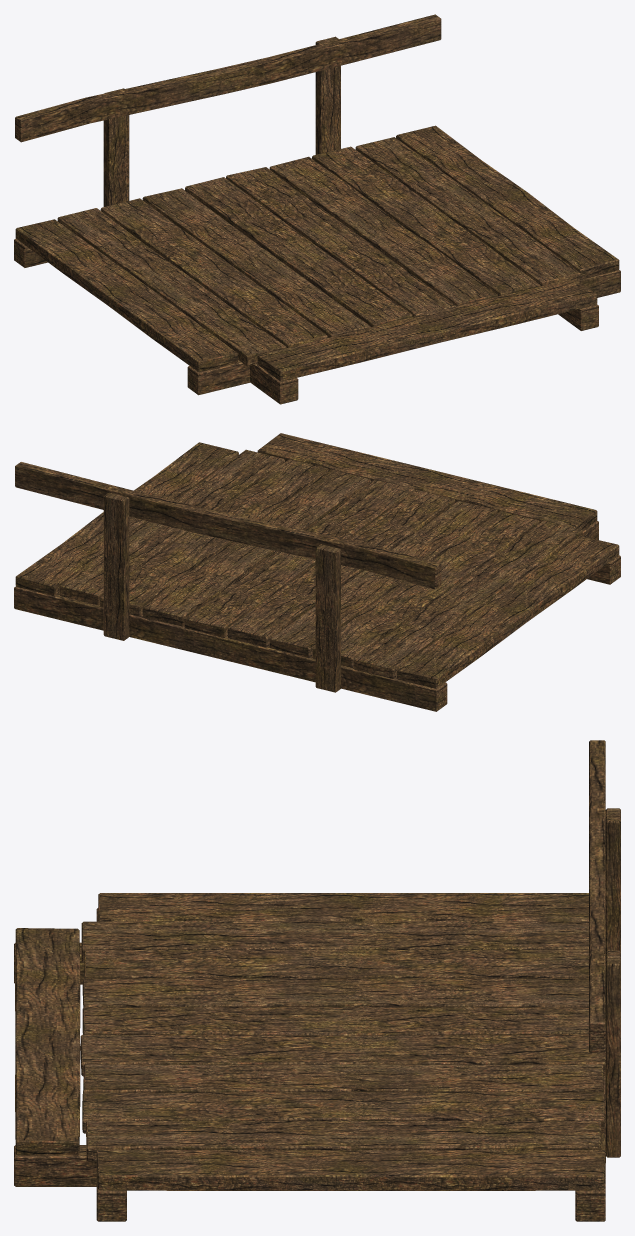
Rendered from Laufsteg_T-Stück.gltf.
3 views of the same model, one above another, from view 1: azimuth 30°, elevation 25°; view 2: azimuth 150°, elevation 25°; view 3: azimuth 270°, elevation 25° (orthographic). The views are drawn at different scales.
Visible parts, largest first — view 1: Laufsteg_T-Stück; view 2: Laufsteg_T-Stück; view 3: Laufsteg_T-Stück.
Boxes of the visible parts, x1,y1,x2,y2 form: Laufsteg_T-Stück: [14, 14, 620, 404]; Laufsteg_T-Stück: [14, 433, 620, 711]; Laufsteg_T-Stück: [14, 740, 620, 1221].
Size of the model in its own units: 4 by 1.32 by 3.6.
Materials: 1 (1 with a texture image).
